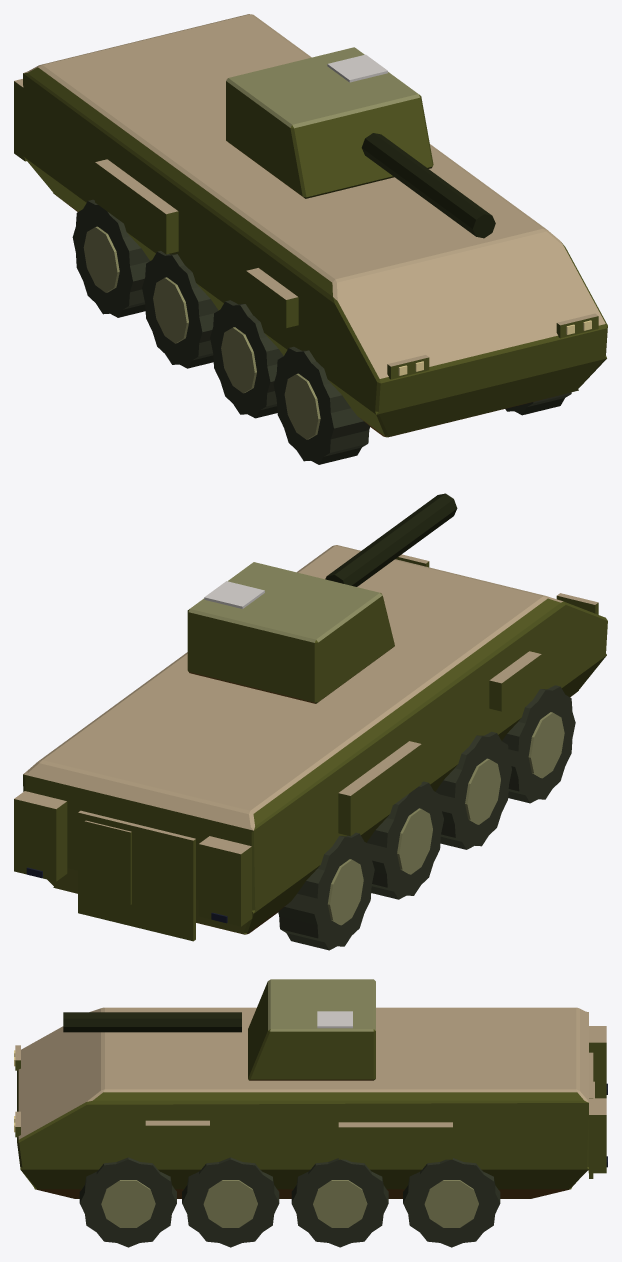
File: SM_VCR_Dragon_v5_LOD1.fbx
3 views of the same model, one above another, from view 1: azimuth 30°, elevation 25°; view 2: azimuth 150°, elevation 25°; view 3: azimuth 270°, elevation 25° (orthographic). The views are drawn at different scales.
Parts seen in each view (by area): view 1: SM_dragon_v5_LOD1; view 2: SM_dragon_v5_LOD1; view 3: SM_dragon_v5_LOD1.
Part boxes in pixels (x1,y1,x2,y2): SM_dragon_v5_LOD1: [14, 14, 607, 464]; SM_dragon_v5_LOD1: [14, 493, 607, 950]; SM_dragon_v5_LOD1: [14, 979, 607, 1247].
Size of the model in its own units: 3.32 by 3.17 by 8.31.
